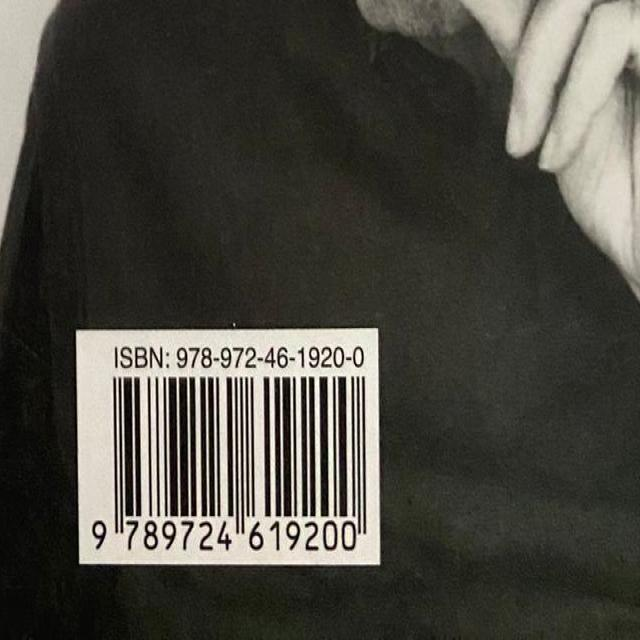Barcode: (109, 372, 370, 519)
